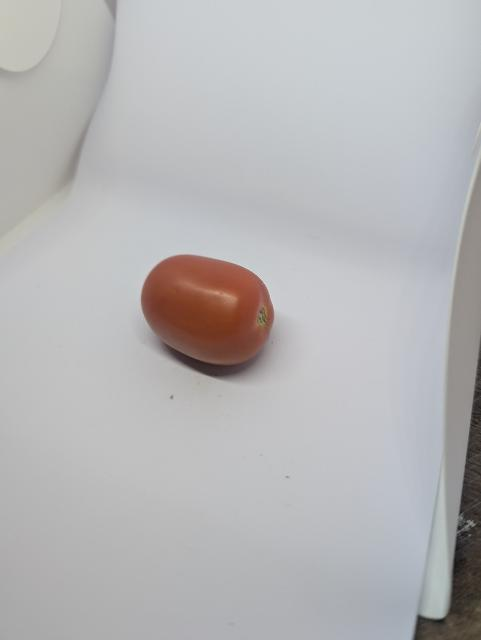red: (136, 242, 287, 374)
